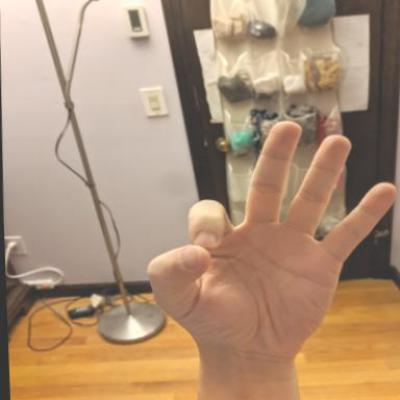hand: (132, 113, 399, 368)
